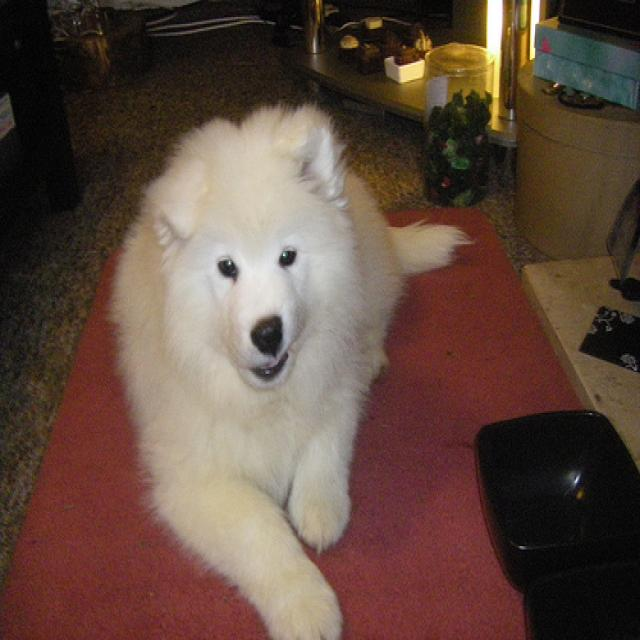dog-samoyed: (99, 94, 483, 637)
